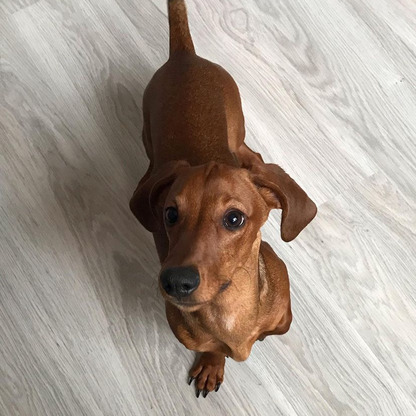dachshund: (116, 23, 332, 397)
